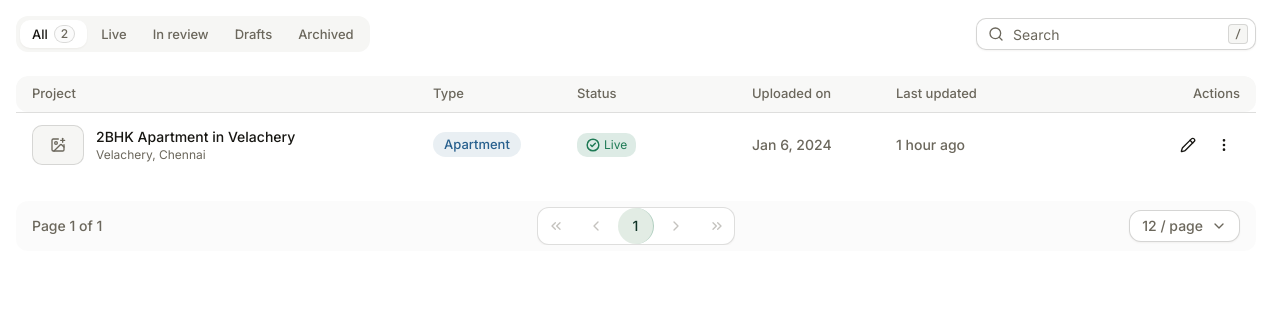
DesignerProjectsList › explains unavailable published versions without promising public access
Click the button with aria-label "Live details" at (607, 144), box [577,132,636,156]
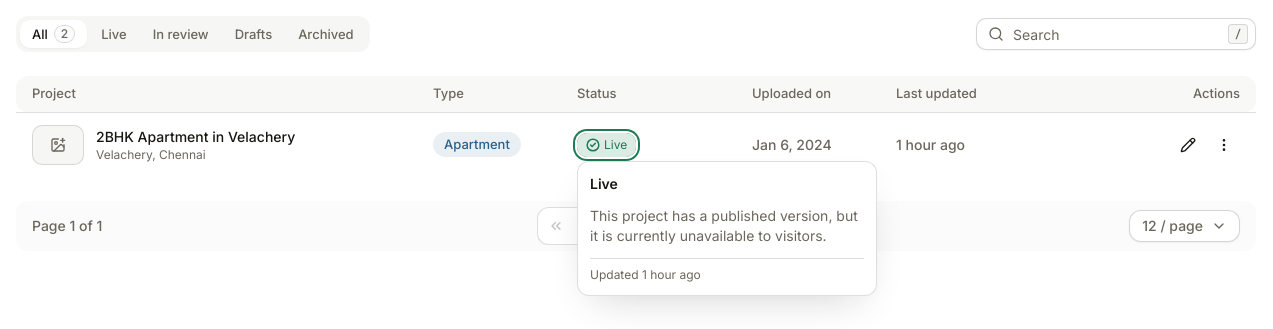
Expected: the tooltip does not show "still live", [577,161,877,296]
Now the tooltip shows "currently unavailable to visitors", box [590,207,858,244]
